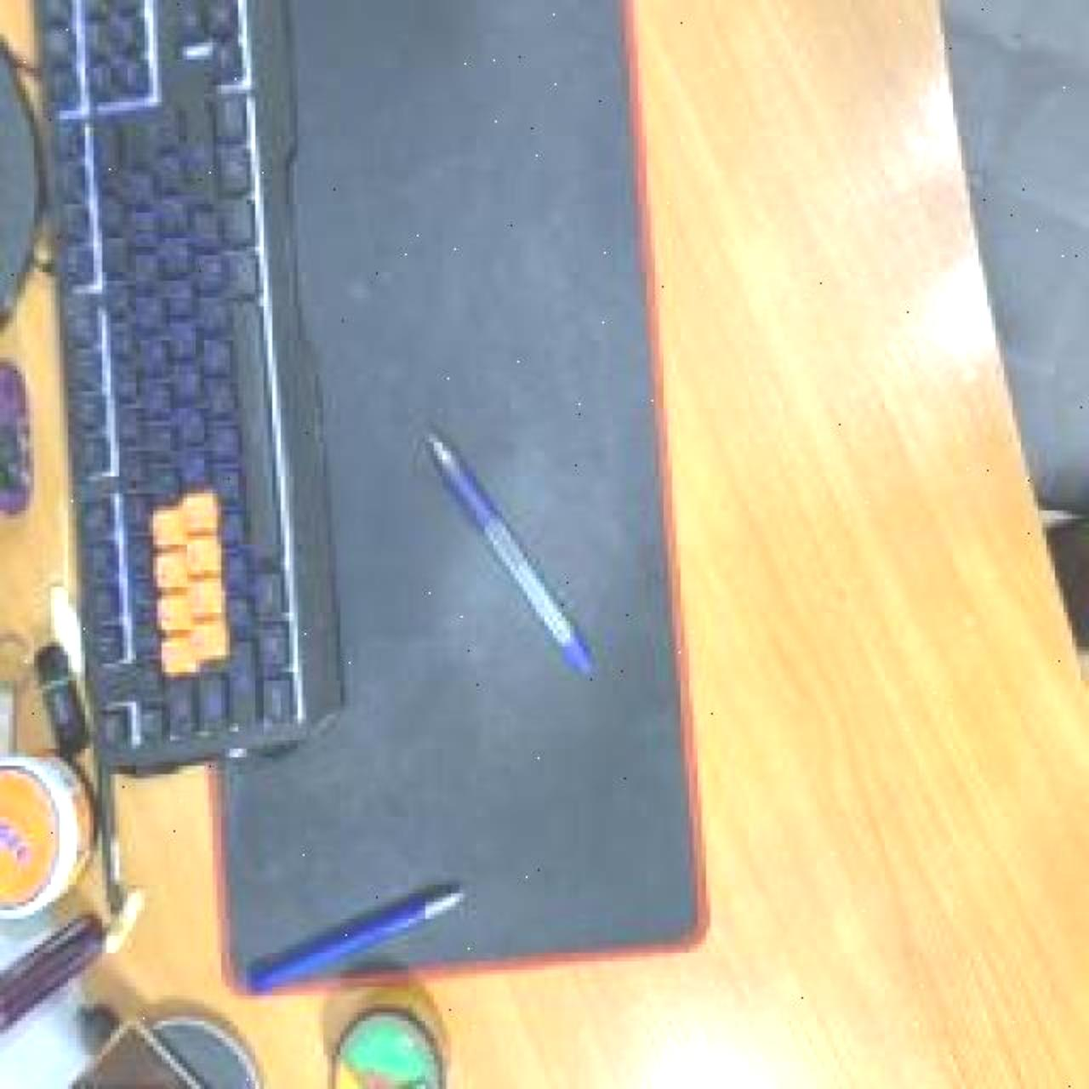pen: (429, 434, 596, 677)
